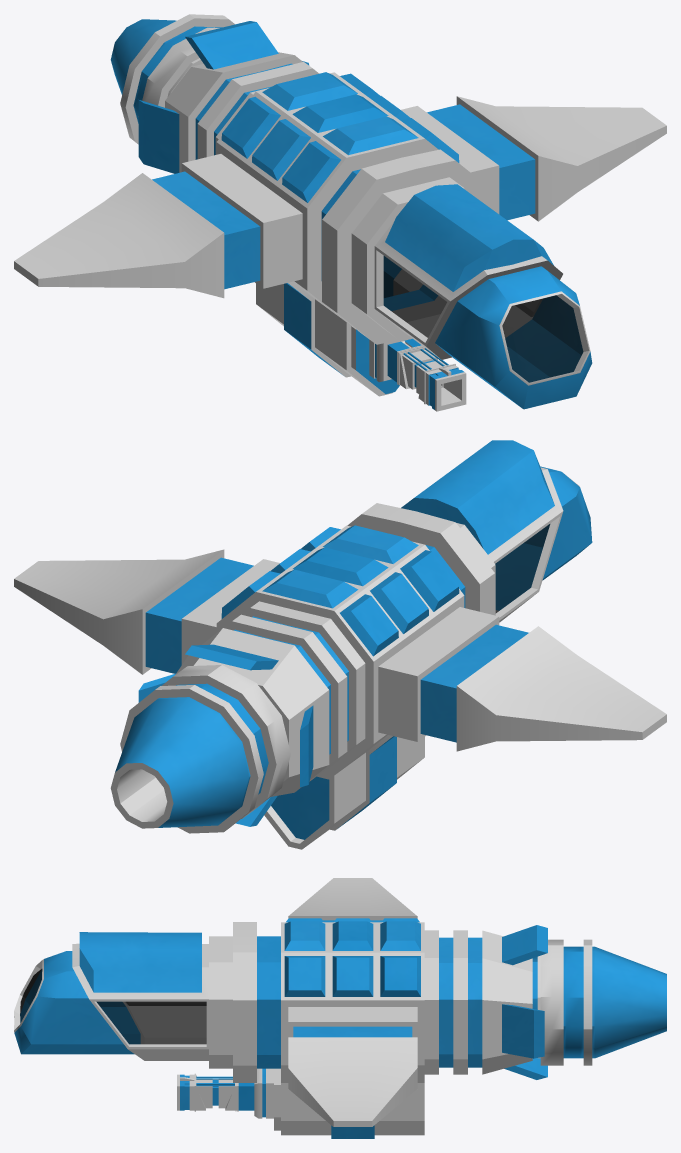
Rendered from BCB.fbx.
3 views of the same model, one above another, from view 1: azimuth 30°, elevation 25°; view 2: azimuth 150°, elevation 25°; view 3: azimuth 270°, elevation 25° (orthographic). The views are drawn at different scales.
Visible parts, largest first — view 1: BCB; view 2: BCB; view 3: BCB.
Boxes of the visible parts, x1,y1,x2,y2 form: BCB: (14, 14, 666, 411); BCB: (14, 440, 666, 849); BCB: (14, 878, 666, 1138).
Size of the model in its own units: 8 by 3.15 by 9.09.
